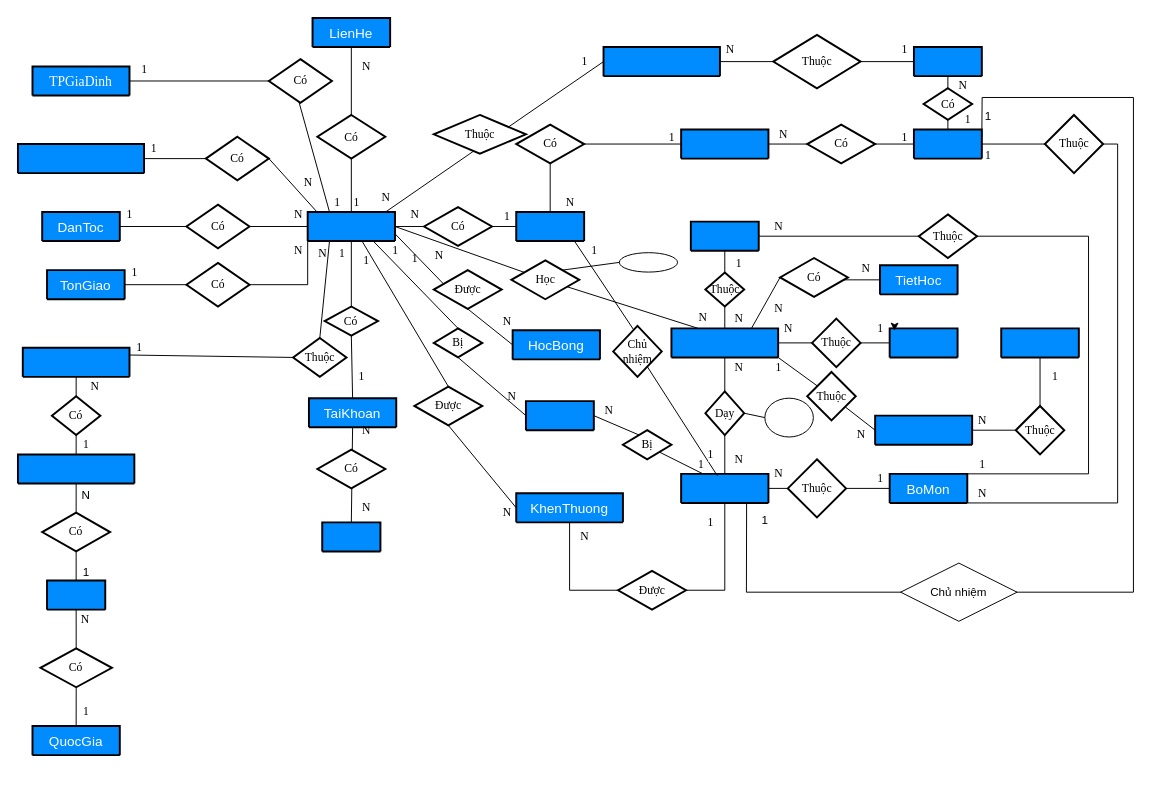
This 1151x809 diagram has some shape labels left out. Here are the shapes that lost their labels. From the top down, the centre of each, then its label:
At point (661, 61): "NganhDaoTao".
At point (947, 61): "Nganh".
At point (80, 158): "DoiTuongUuTien".
At point (724, 143): "KhoaHoc".
At point (947, 143): "Khoa".
At point (350, 226): "SinhVien".
At point (550, 226): "LopSV".
At point (724, 235): "MonHoc".
At point (648, 262): "Điểm".
At point (75, 361): "Phuong_Xa".
At point (724, 342): "LopHocPhan".
At point (923, 342): "HocKi".
At point (1039, 342): "KhuVuc".
At point (559, 415): "KiLuat".
At point (788, 417): "TypeGV".
At point (923, 429): "PhongHoc".
At point (75, 468): "Quan_Huyen".
At point (724, 487): "GiaoVien".
At point (351, 536): "Role".
At point (76, 594): "City".
